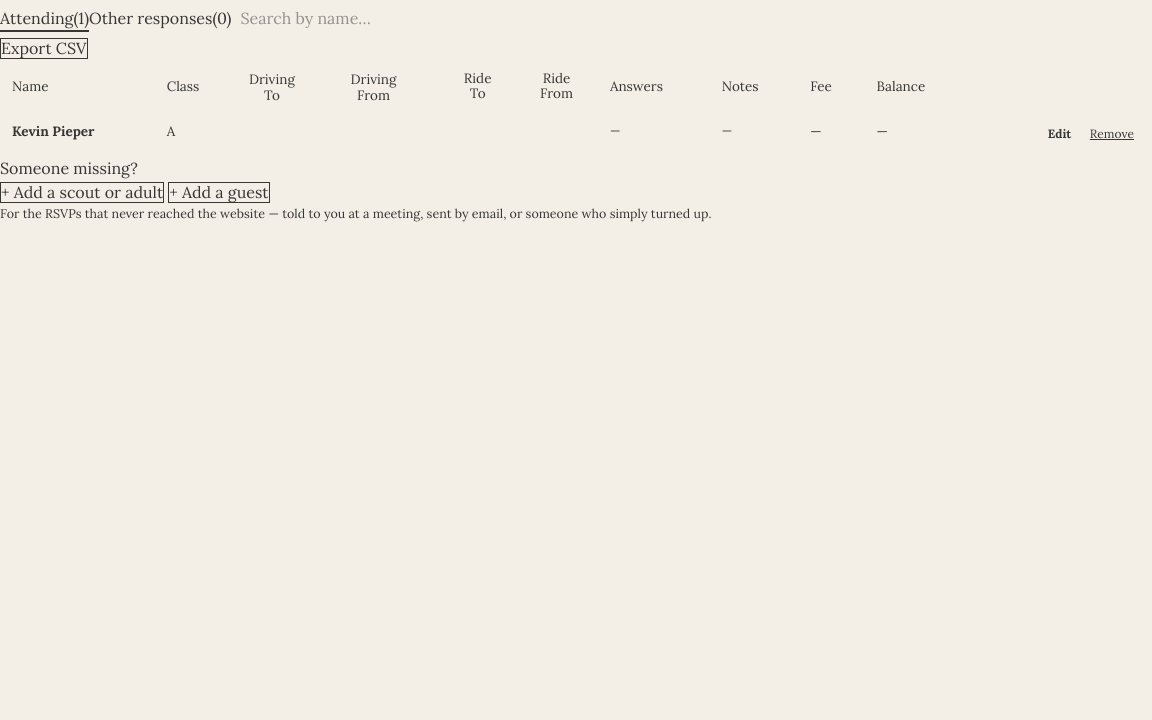
Scenario: RosterTable — participant class › AddAGuest_OpensAFormWithNameClassAndHost
The width and height of the screenshot is (1152, 720).
Click the button "+ Add a guest" at (219,193), box [168,182,270,203]
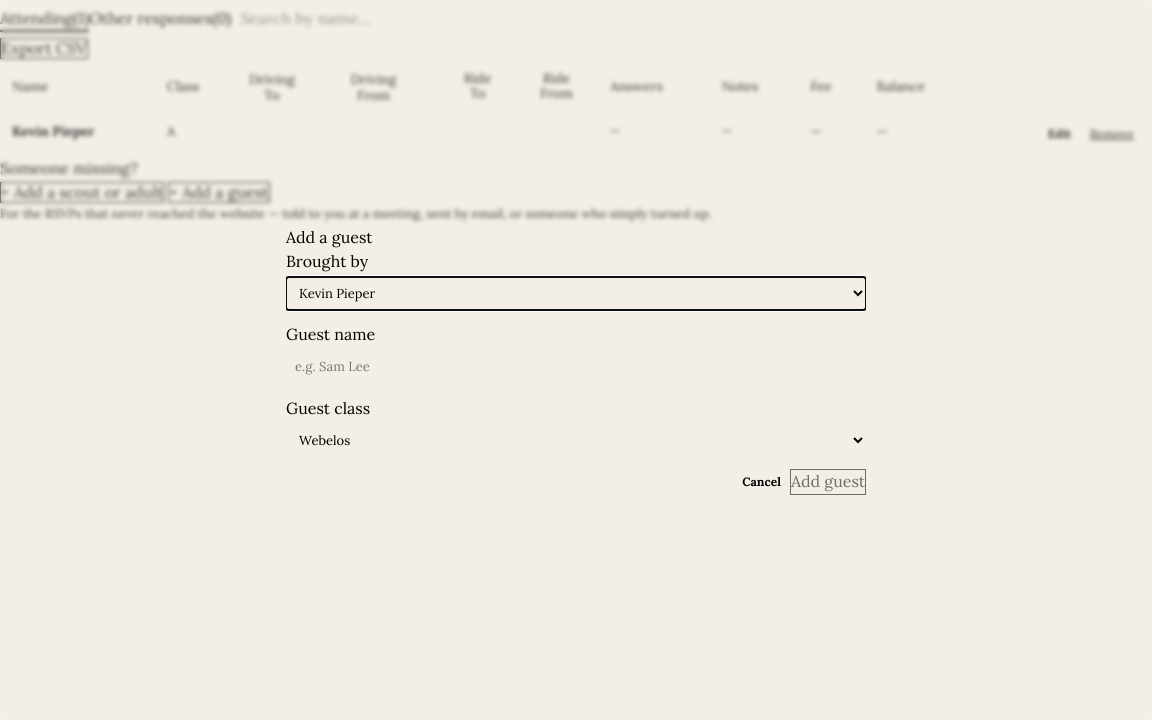
Result: the field labelled "Guest name" is shown at [286,350,866,384]
